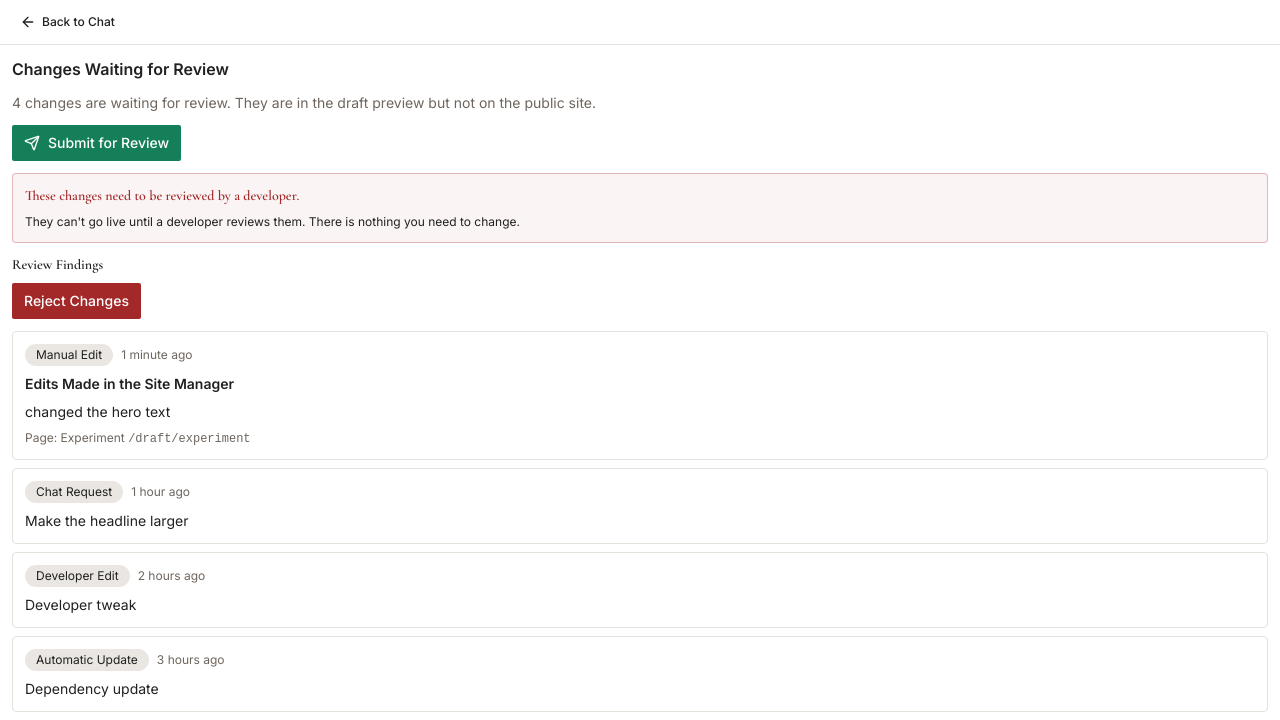
Test: Changes waiting for review › keeps relay errors in the existing error line
Click the button "Reject Changes".
click(76, 301)  # box left=12, top=283, right=141, bottom=319
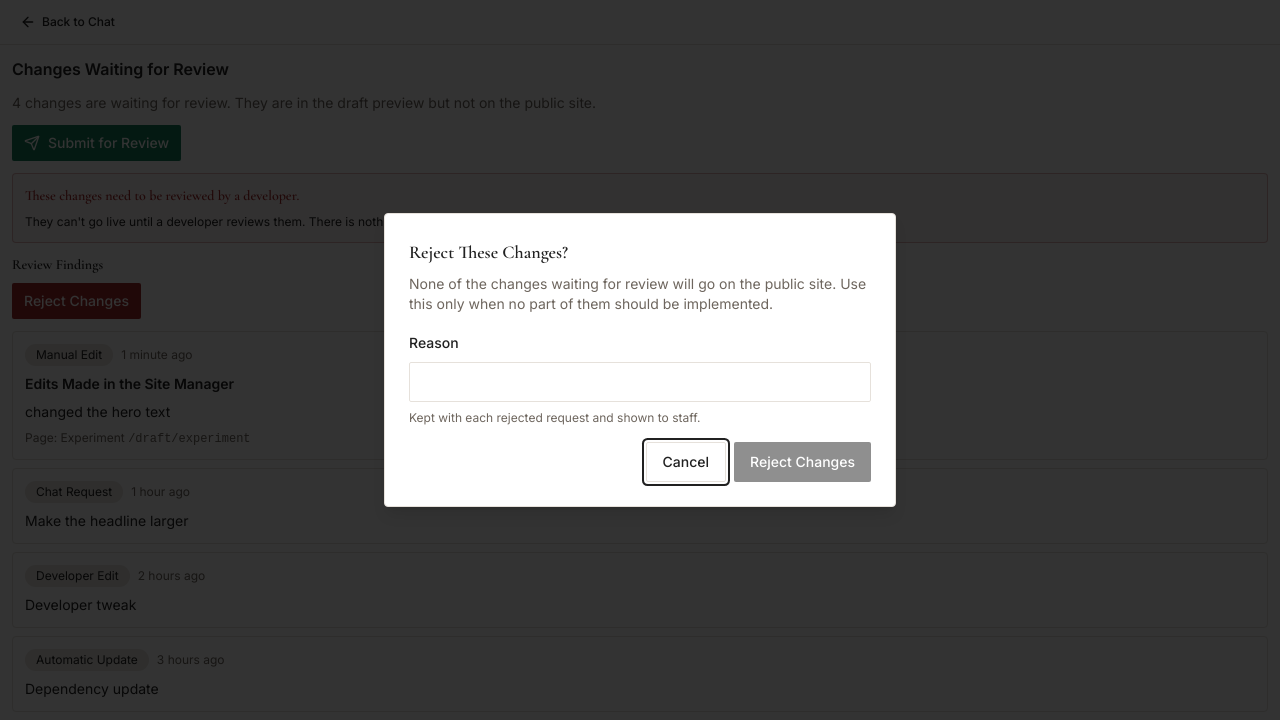
Type "Not approved" into the field labelled "Reason".
click(640, 382); type("Not approved")  # box left=409, top=362, right=871, bottom=402
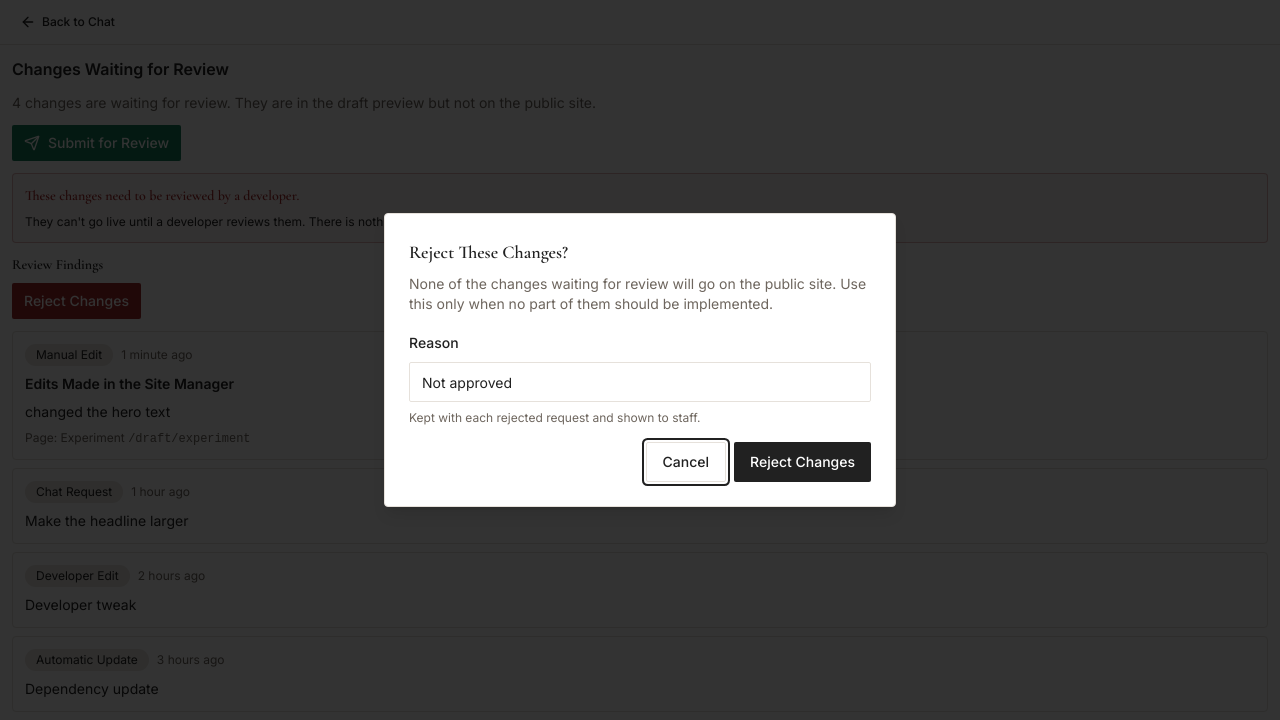
Click the button "Reject Changes".
click(803, 462)  # box left=734, top=442, right=871, bottom=482
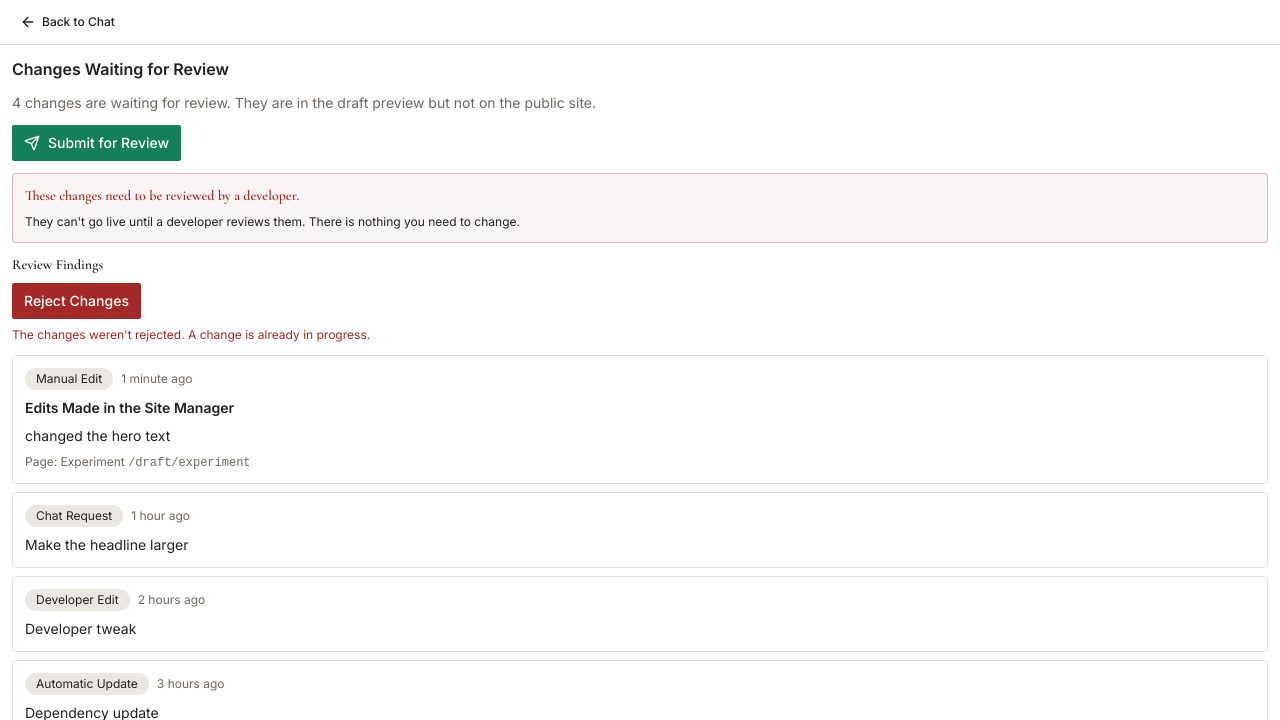
Expected: the message "The changes weren't rejected. A change is already in progress." is shown, left=12, top=327, right=370, bottom=342
